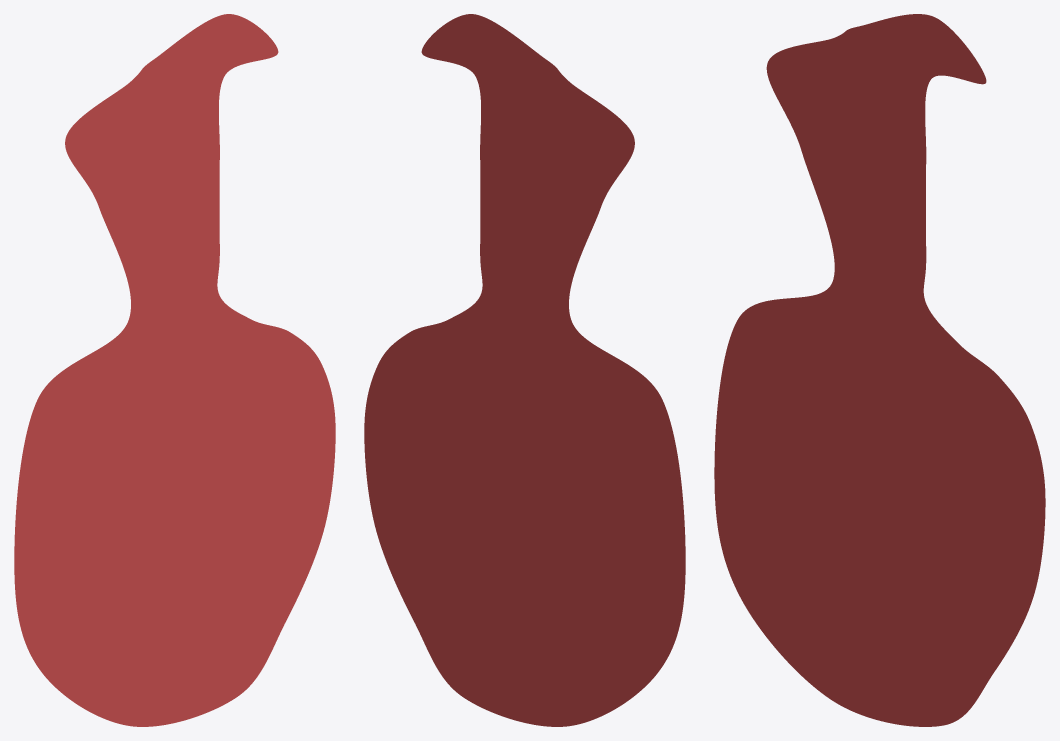
File: myshape.obj
3 views of the same model, side by side, from view 1: azimuth 30°, elevation 25°; view 2: azimuth 150°, elevation 25°; view 3: azimuth 330°, elevation 25° (orthographic). The views are drawn at different scales.
Parts seen in each view (by area): view 1: Curva_1; view 2: Curva_1; view 3: Curva_1.
Boxes of the visible parts, x1,y1,x2,y2 form: Curva_1: (14,14,335,726); Curva_1: (364,14,685,726); Curva_1: (714,14,1045,726).
Bounding box in the file's own units: 0.3543 × 0.7339 × 0.
